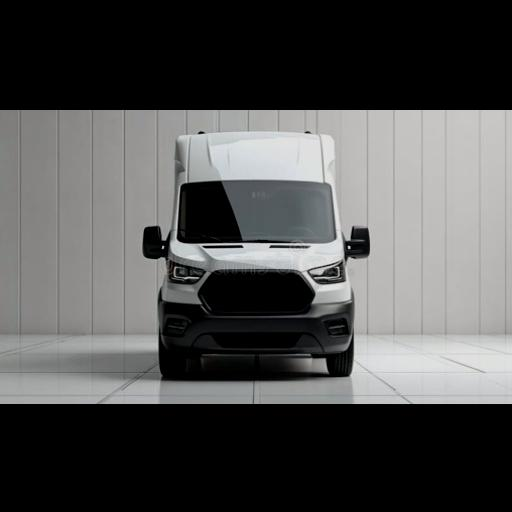van: (144, 133, 369, 375)
